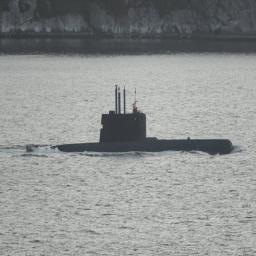submarine: (27, 86, 236, 155)
